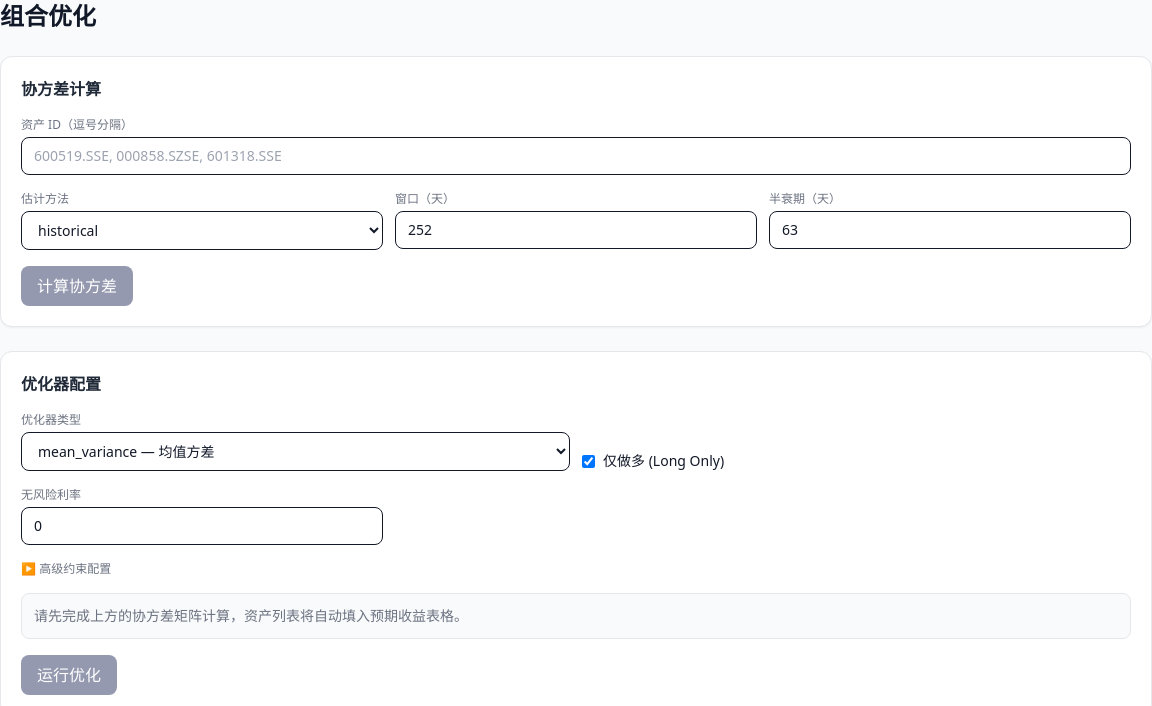
Test: OptimizePage › computes covariance and shows result
The image size is (1152, 706).
Type "A.SSE, B.SZSE" into the field with placeholder "600519.SSE, 000858.SZSE, 601318.SSE" at (576, 156), box top-left (21, 137), bottom-right (1131, 175)
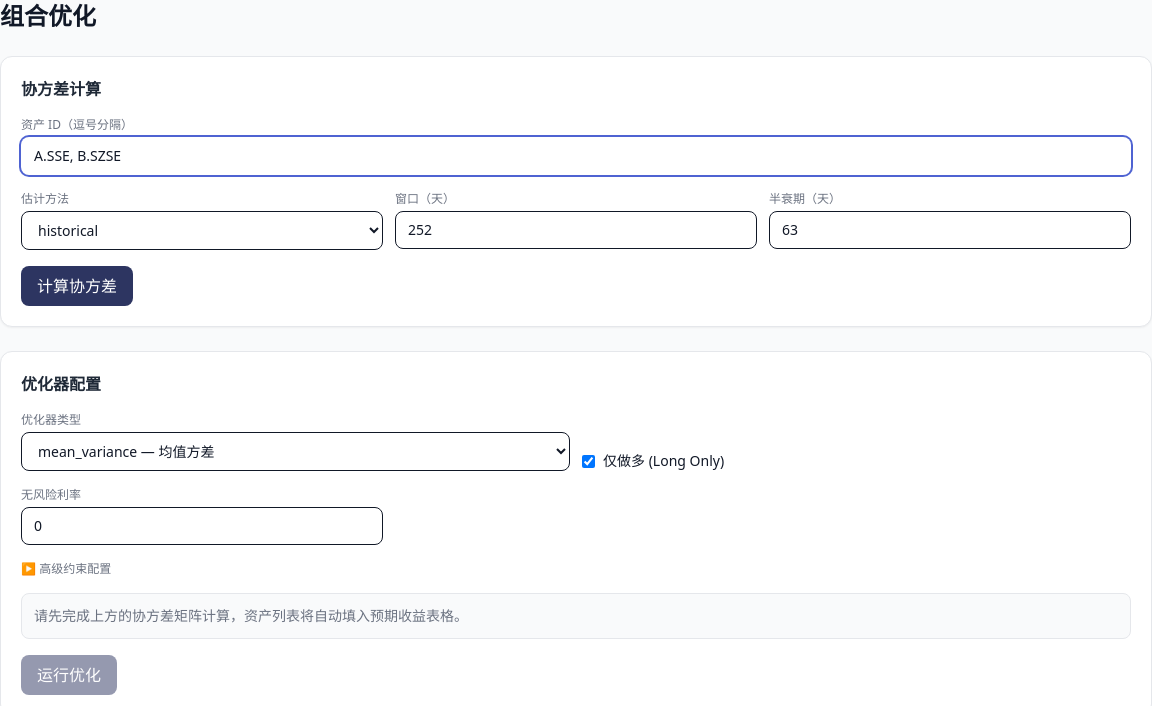
Click the button "计算协方差" at (77, 286), box top-left (21, 266), bottom-right (133, 306)
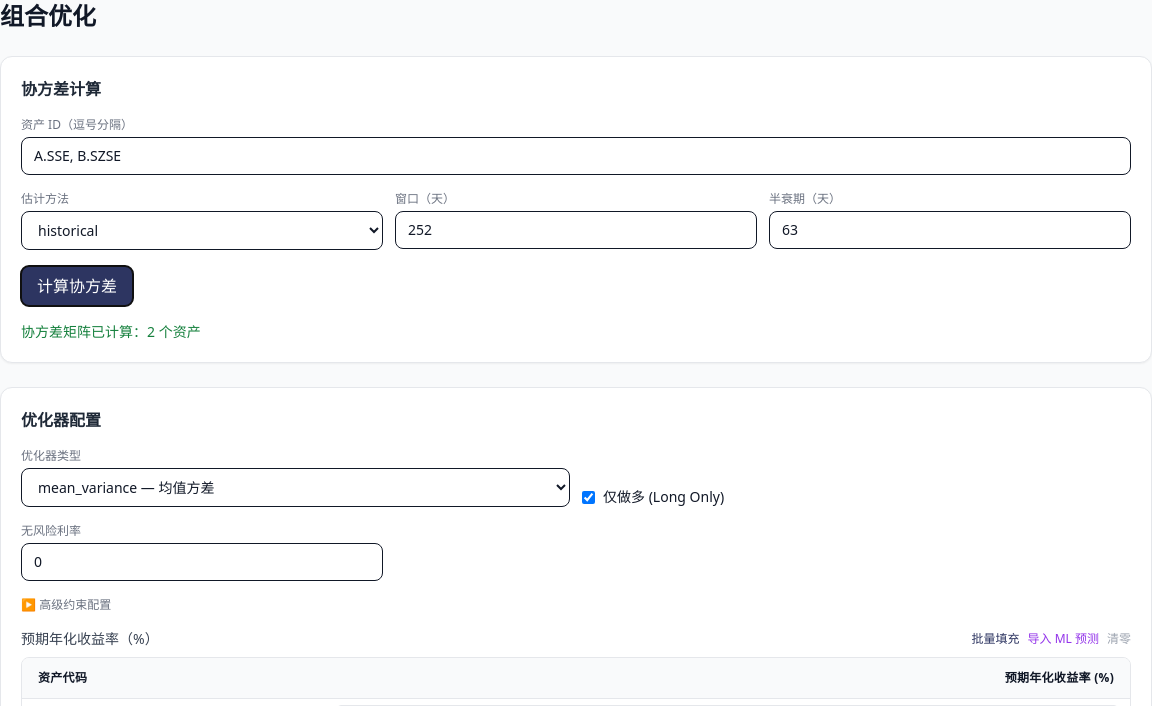
Expected: the text "协方差矩阵已计算：2 个资产" is shown, top-left (21, 322), bottom-right (201, 341)
